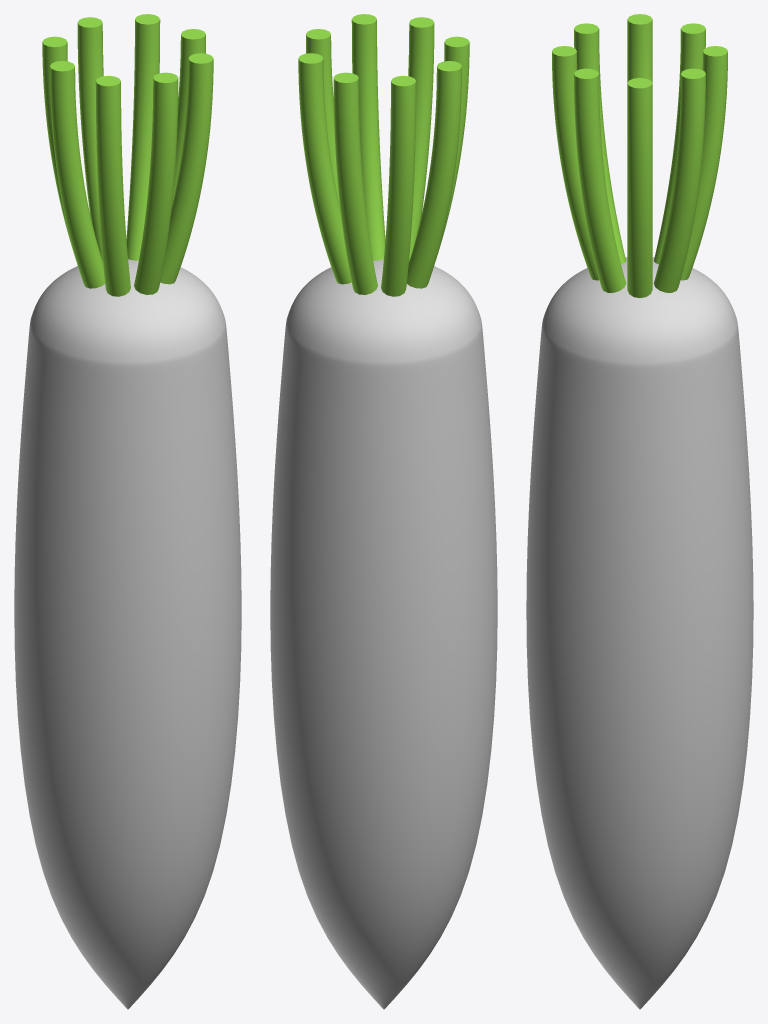
File: daikon.glb
The picture shows the model from 3 angles, left to right: view 1: azimuth 30°, elevation 25°; view 2: azimuth 150°, elevation 25°; view 3: azimuth 270°, elevation 25°; orthographic projection.
Parts seen in each view (by area): view 1: 球, NURBSパス; view 2: 球, NURBSパス; view 3: 球, NURBSパス.
Part boxes in pixels (x1,y1,x2,y2): 球: (14,259,241,1009); NURBSパス: (42,14,213,296); 球: (270,259,497,1009); NURBSパス: (298,14,469,296); 球: (526,257,753,1009); NURBSパス: (552,14,727,297).
Bounding box in the file's own units: 0.9023 × 4.2 × 0.9023.
